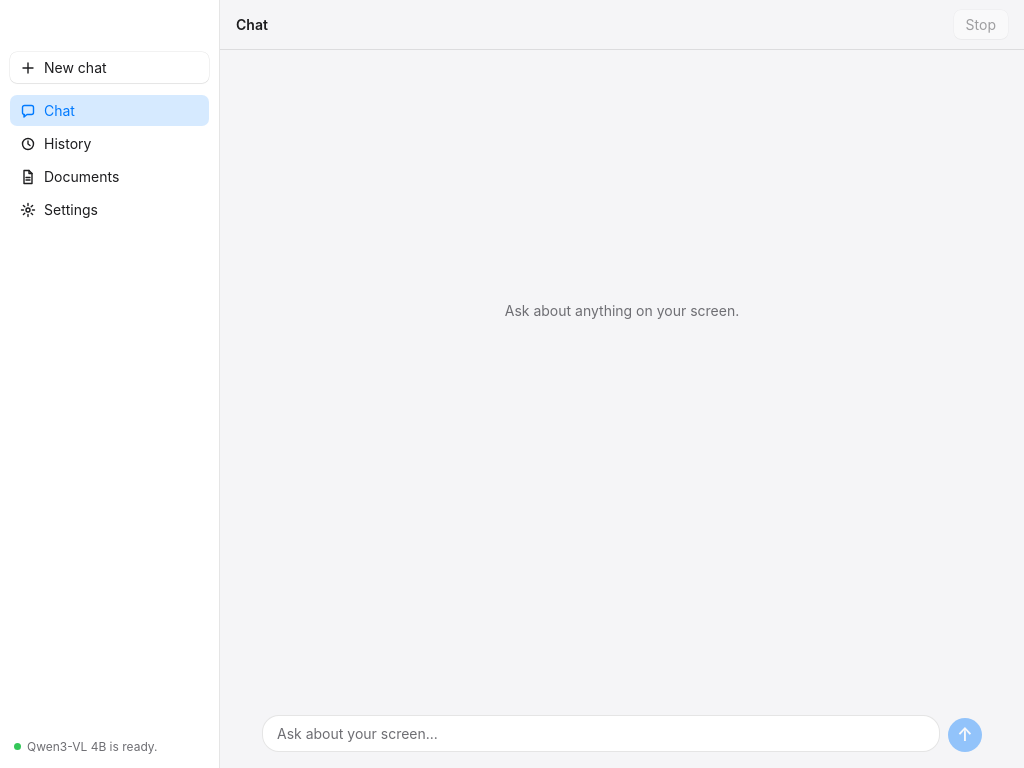
Test: New chat from another page shows an empty Chat and tells Hey Dot to forget it
Type "What is the capital of France?" into the text box named "Question" at {"x": 601, "y": 734}, box left=262, top=715, right=940, bottom=752
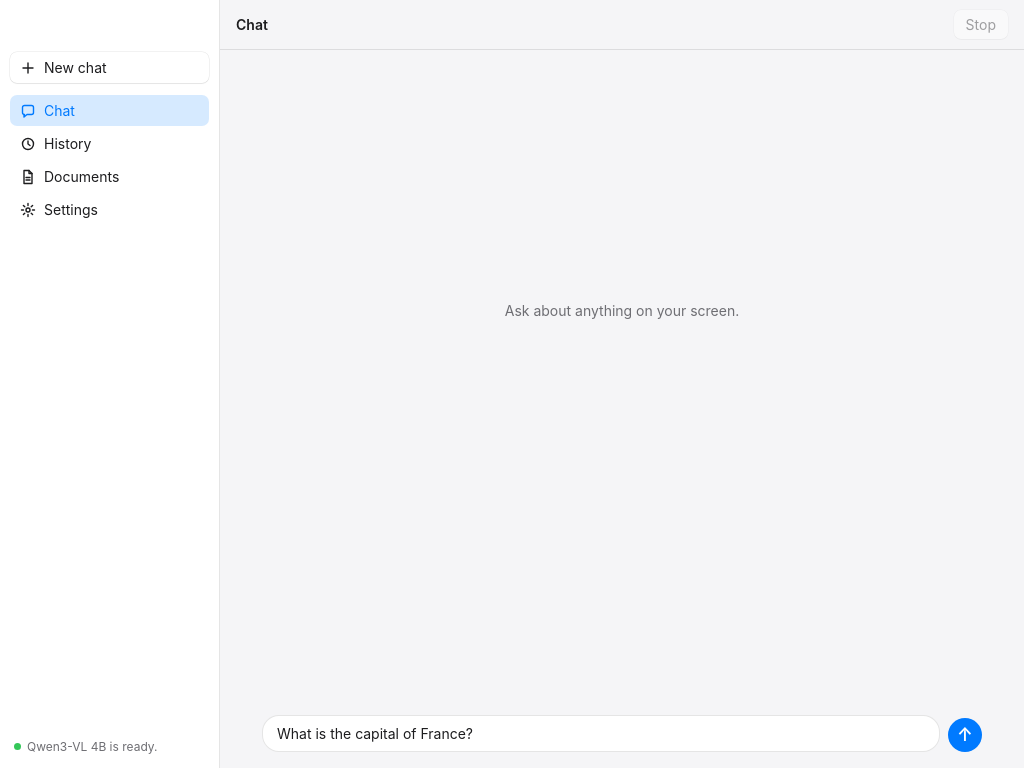
Click the button named "Ask" at {"x": 965, "y": 735}, box left=948, top=718, right=982, bottom=752
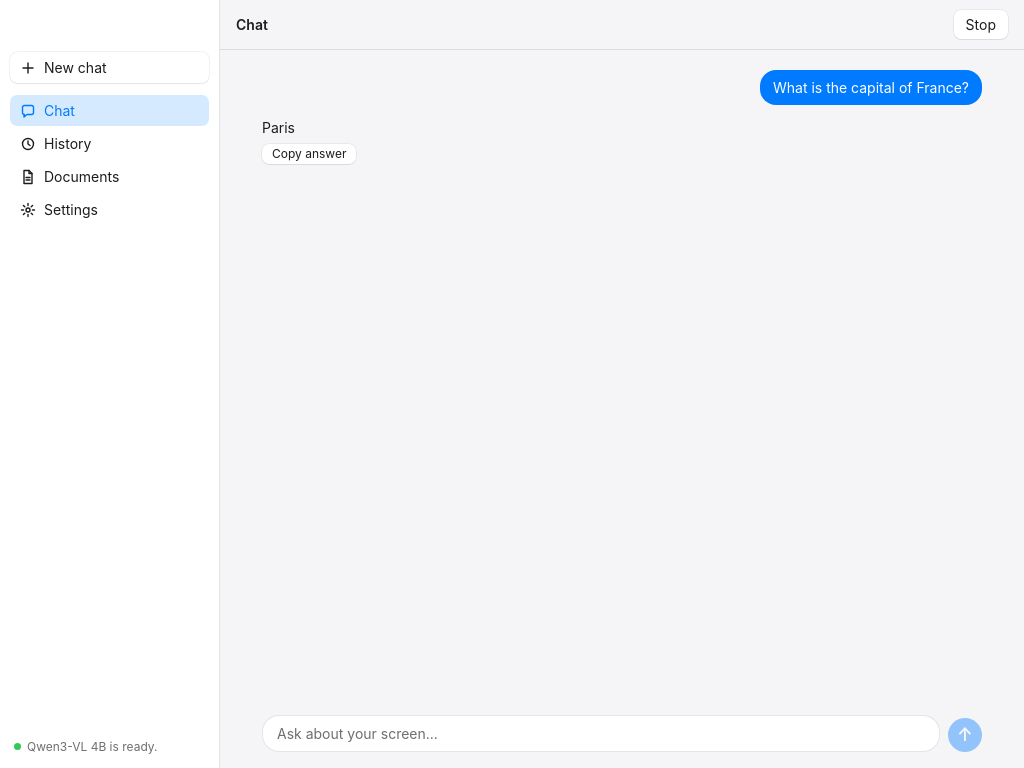
Now the text "Paris" is shown, box left=262, top=119, right=295, bottom=136
Click the button "History" at {"x": 110, "y": 144}, box left=10, top=128, right=209, bottom=159
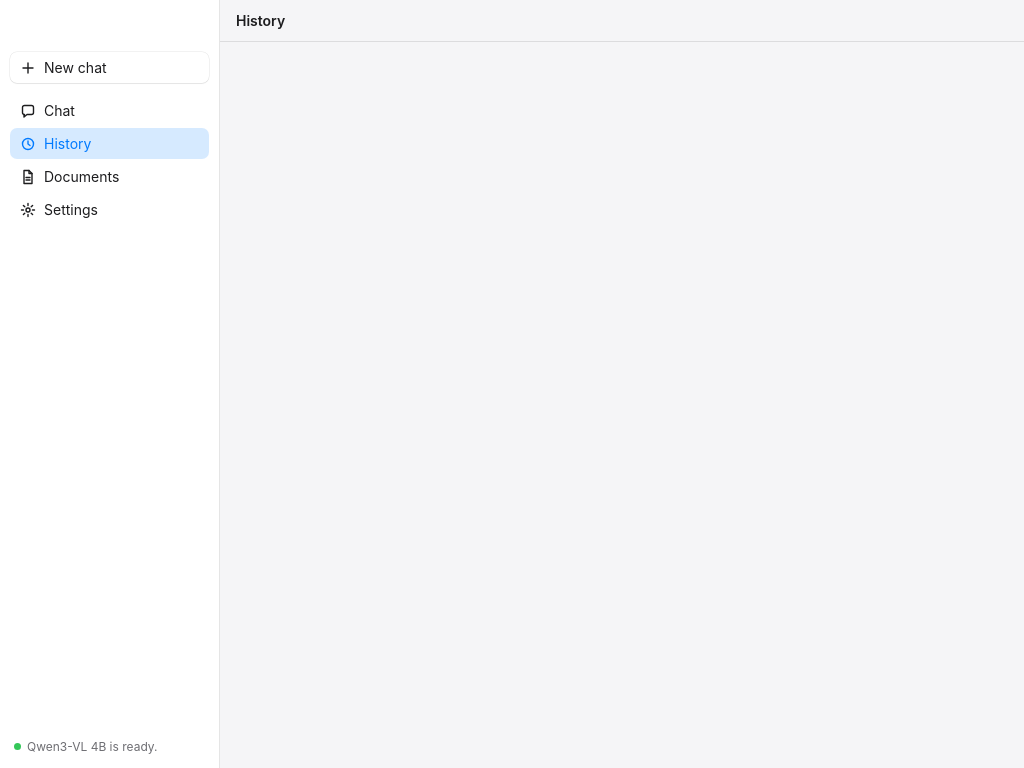
Click the button "New chat" at {"x": 110, "y": 68}, box left=10, top=52, right=209, bottom=83
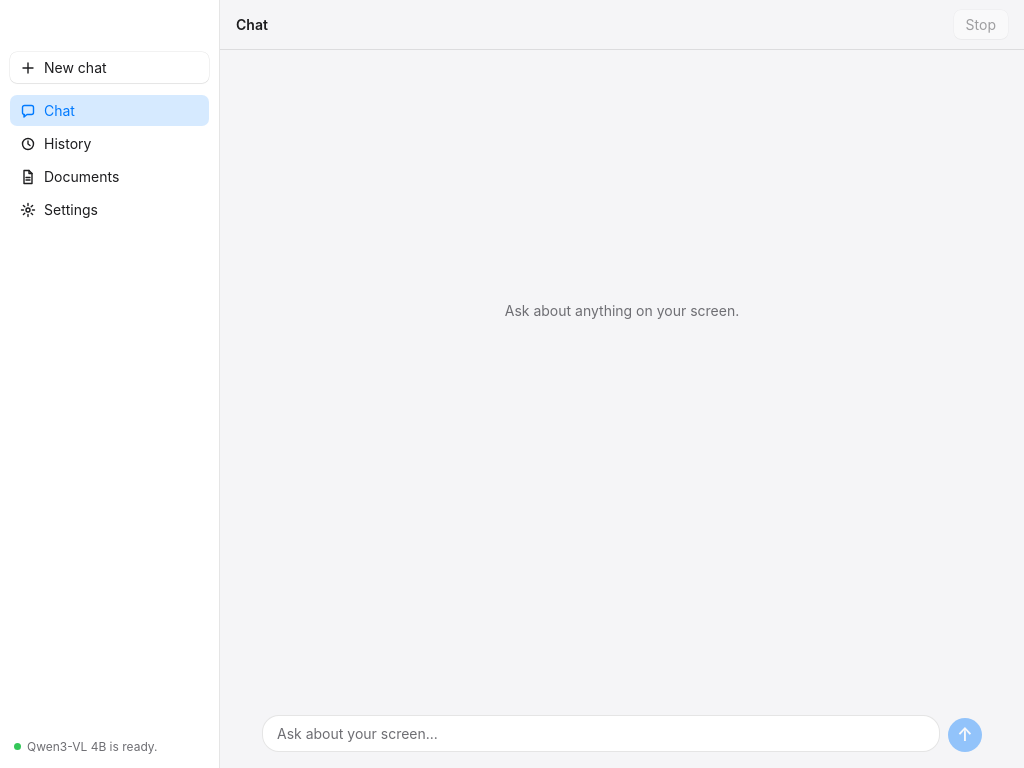
Now the heading "Chat" is shown, box left=236, top=14, right=268, bottom=35
